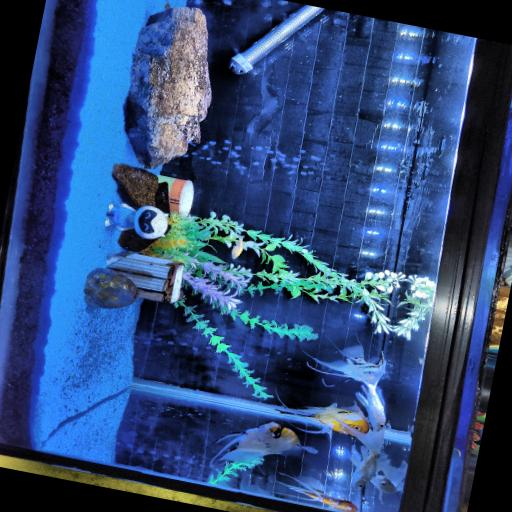Fish: (212, 421, 316, 462), (335, 418, 383, 487), (276, 473, 357, 511), (346, 357, 385, 429), (308, 344, 385, 379), (291, 403, 368, 436), (370, 454, 407, 492), (231, 235, 243, 258)
